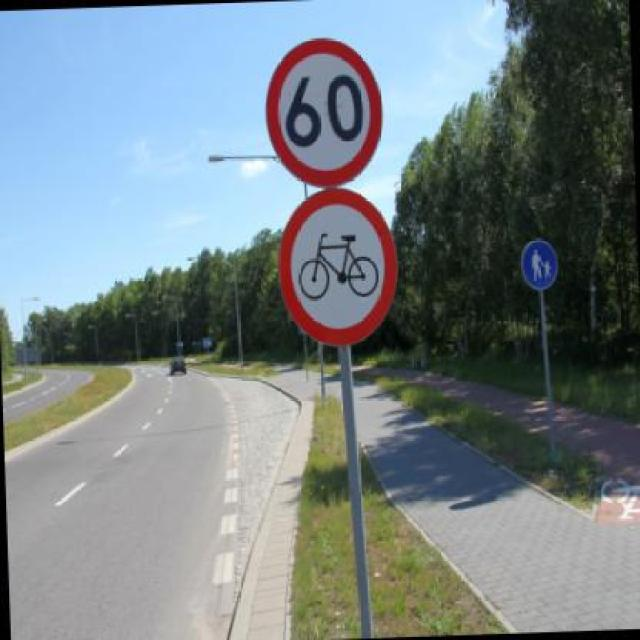Limite-60: (260, 30, 390, 186)
